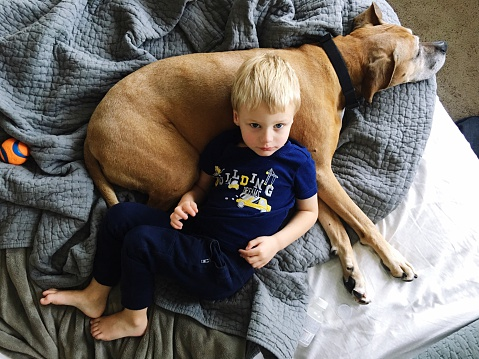deitado: (27, 57, 407, 359)
